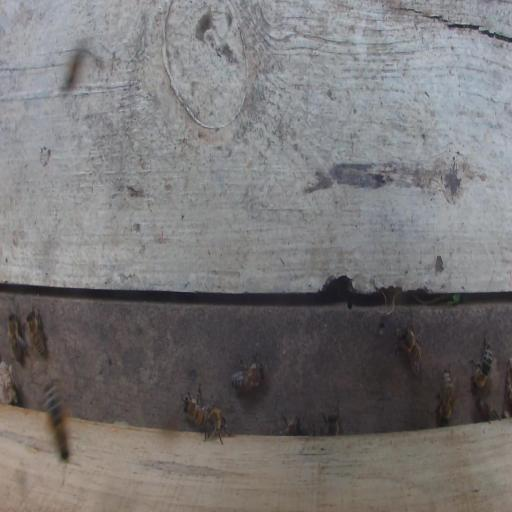bee: (41, 379, 74, 466), (395, 322, 422, 376), (230, 355, 265, 396), (468, 333, 492, 390), (203, 406, 235, 445), (435, 367, 456, 423), (7, 311, 29, 364), (183, 385, 209, 427), (26, 306, 46, 357), (320, 405, 340, 436), (279, 414, 303, 436), (477, 400, 501, 421)
